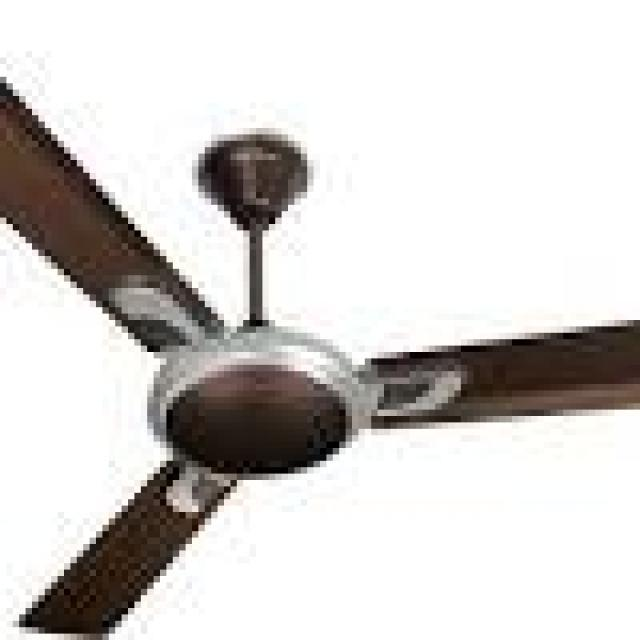fan_off: (0, 68, 640, 636)
